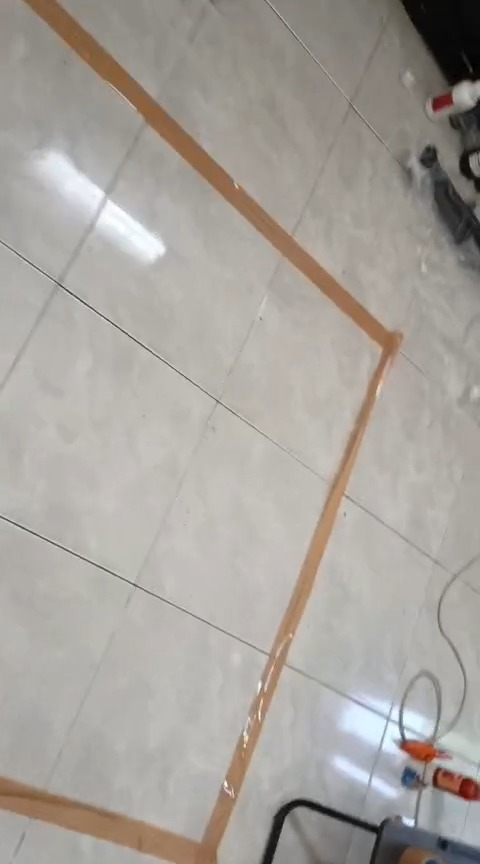floor marking: (0, 0, 400, 863)
